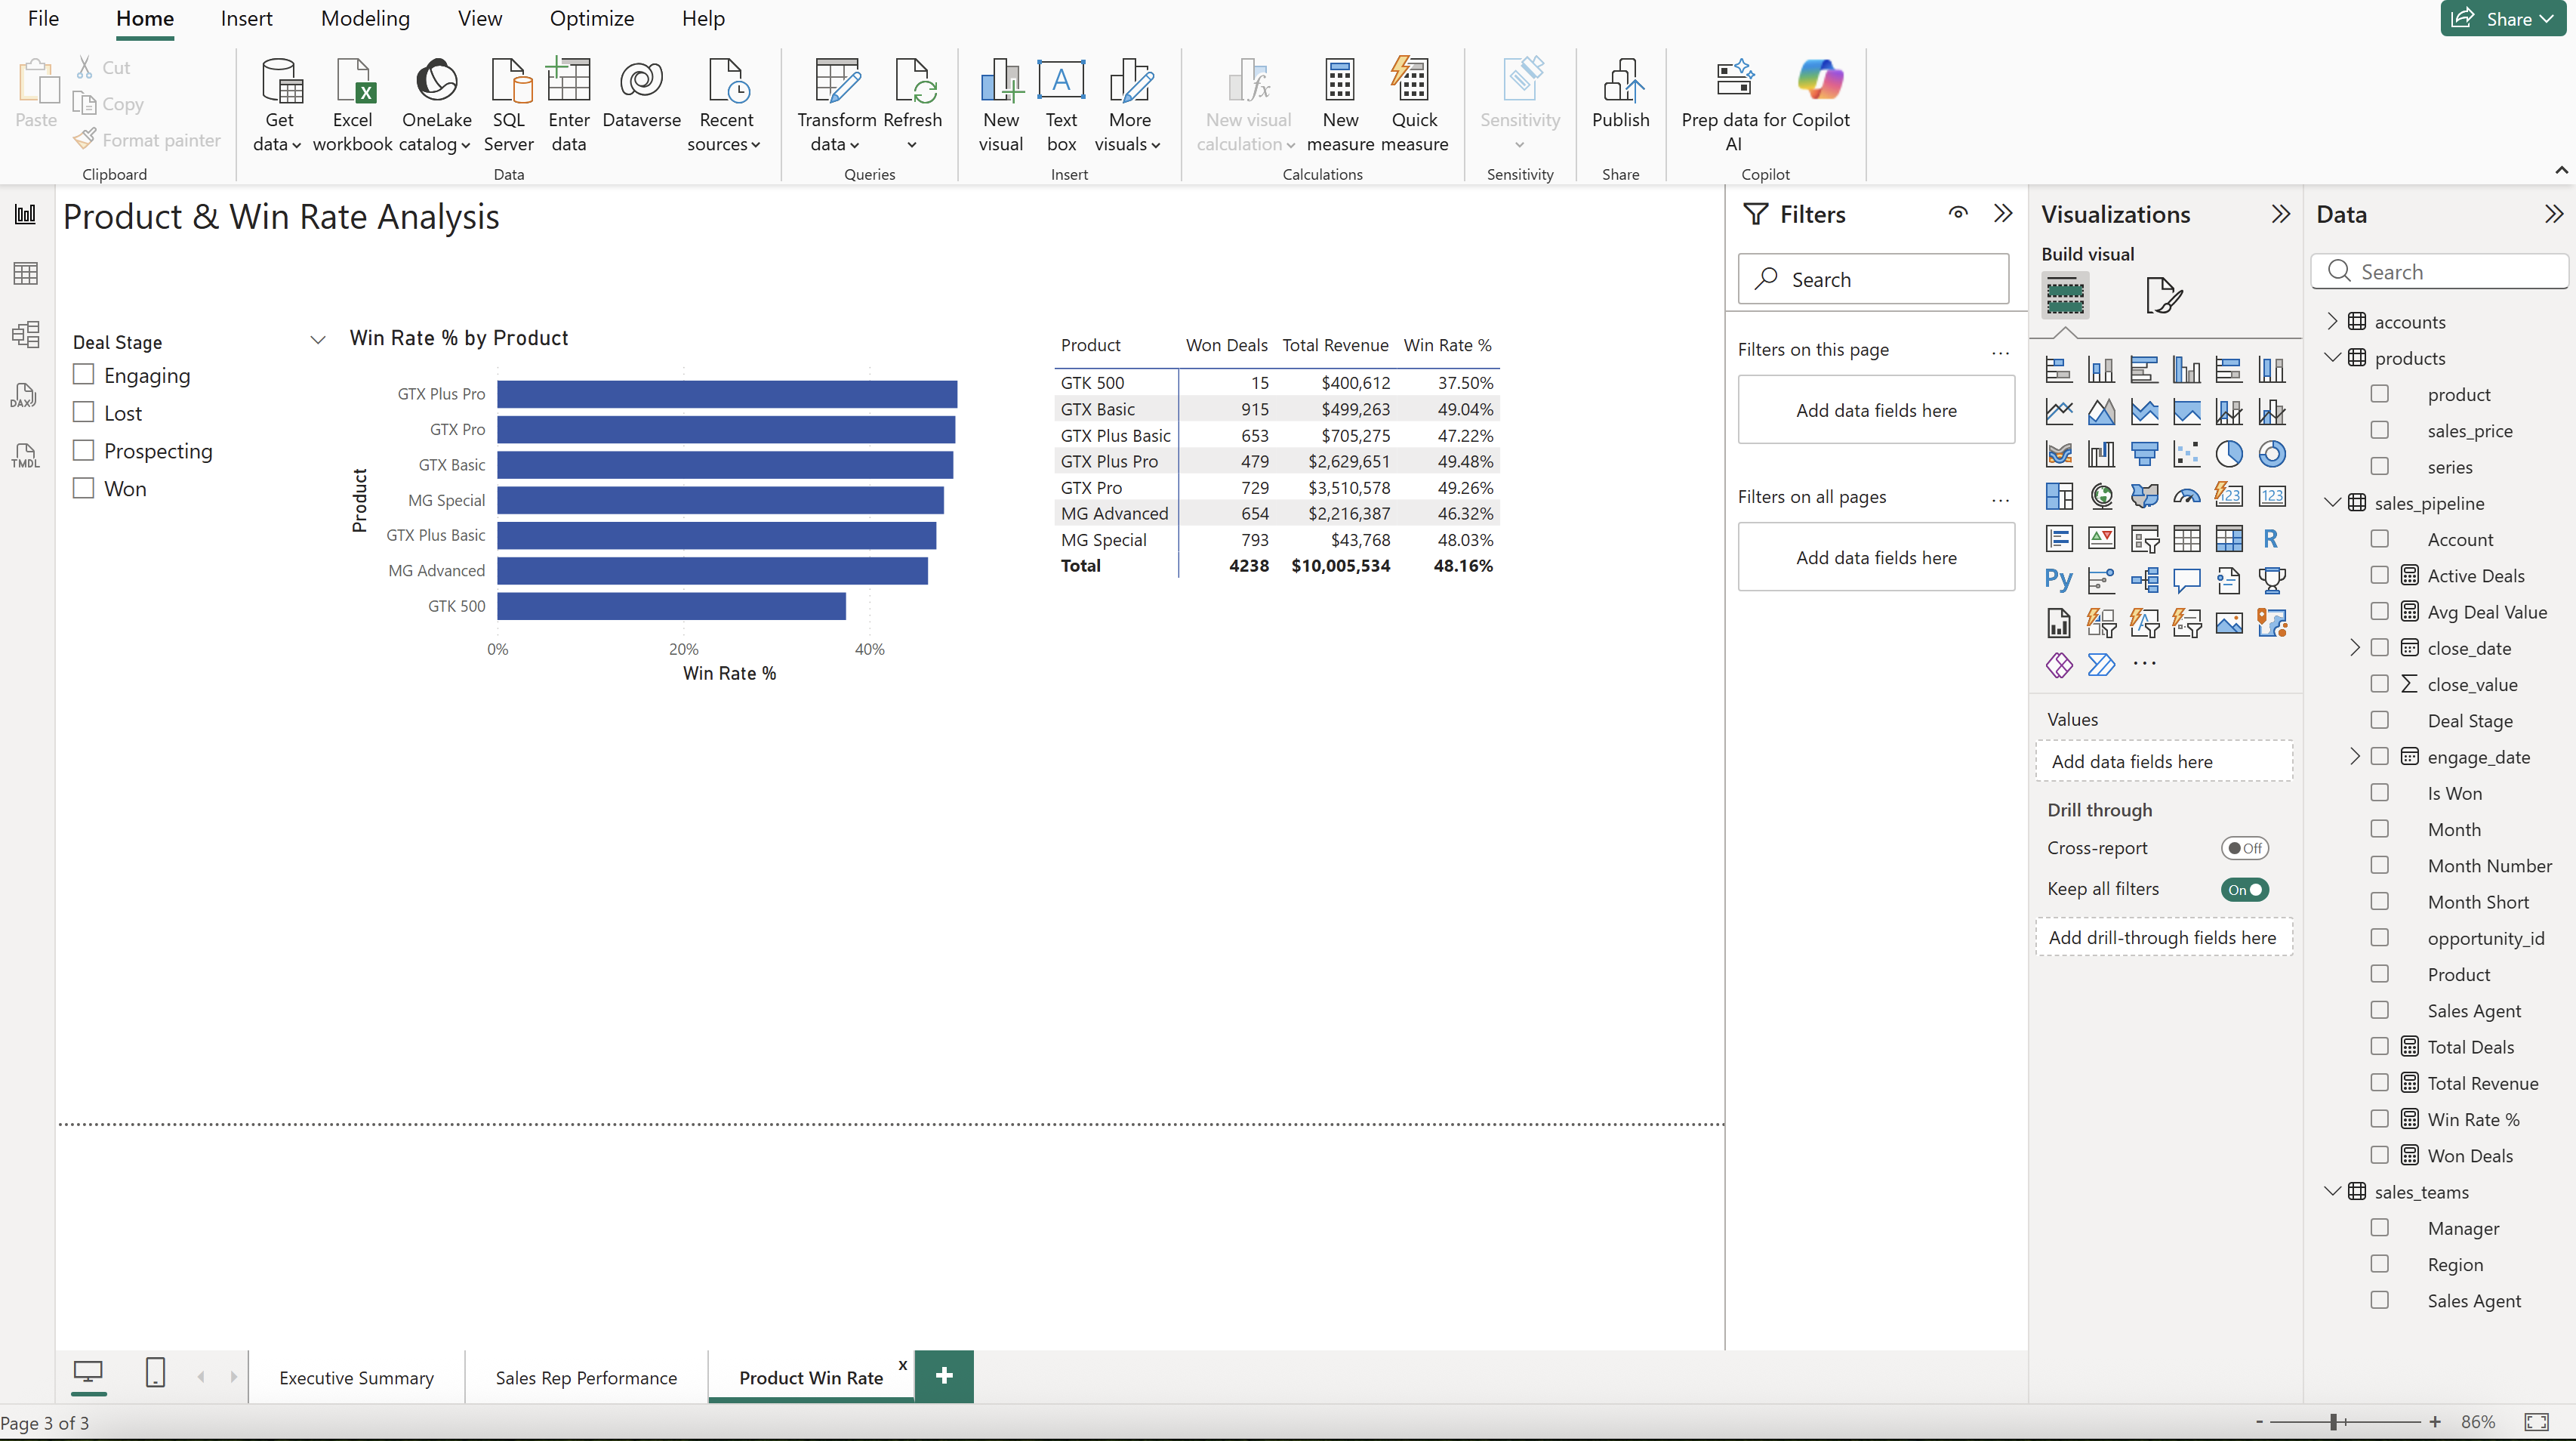

What the dashboard file says about the page in this screenshot:
{"tool":"powerbi","page":{"name":"Product Win Rate","canvas":[1280,720],"ordinal":2},"visuals":[{"type":"clusteredBarChart","fields":{"Y":["sales_pipeline.Win Rate %"],"Category":["sales_pipeline.product"]},"box":[220.1,107.7,492.3,280.3],"z":0},{"type":"pivotTable","fields":{"Rows":["sales_pipeline.product"],"Values":["sales_pipeline.Total Deals","sales_pipeline.Total Revenue","sales_pipeline.Win Rate %"]},"box":[761,107.7,443.7,280.3],"z":1000},{"type":"slicer","fields":{"Values":["sales_pipeline.deal_stage"]},"box":[0,107.7,220.1,280.3],"z":2000},{"type":"textbox","box":[0,0,476.8,57.9],"z":3000}]}

Visuals, with their boxes on the page's 1280x720 design canvas (x1, y1, x2, y2). These are canvas units, not pixel positions in the 2576x1441 screenshot, which may show the page scaled, cropped or inside an application window:
clusteredBarChart - sales_pipeline.Win Rate % x sales_pipeline.product: select_region(220, 108, 712, 388)
pivotTable - sales_pipeline.product x sales_pipeline.Total Deals: select_region(761, 108, 1205, 388)
slicer - sales_pipeline.deal_stage: select_region(0, 108, 220, 388)
textbox: select_region(0, 0, 477, 58)
